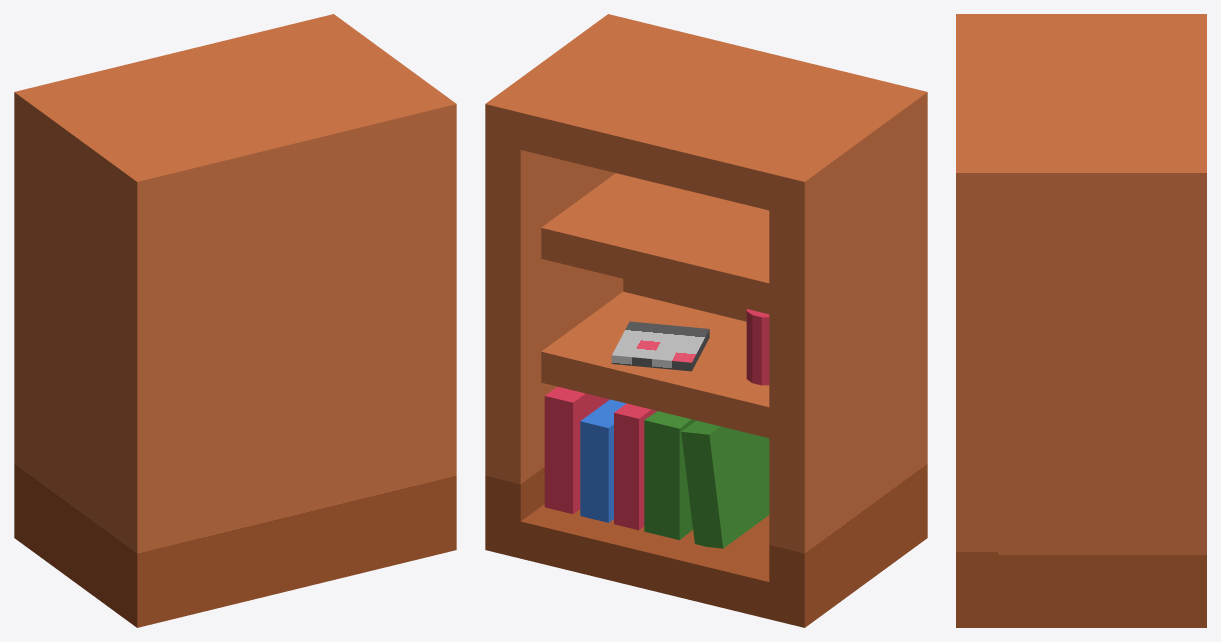
The model's file is shelf.gltf.
3 views of the same model, side by side, from view 1: azimuth 30°, elevation 25°; view 2: azimuth 150°, elevation 25°; view 3: azimuth 270°, elevation 25° (orthographic). The views are drawn at different scales.
Visible parts, largest first — view 1: cuboid; view 2: cuboid (×7), cylinder; view 3: cuboid.
Part boxes in pixels (bbox=[...]): cuboid: bbox=[14, 14, 456, 627]; cuboid (×7): bbox=[485, 14, 927, 627]; cylinder: bbox=[746, 309, 769, 385]; cuboid: bbox=[956, 14, 1206, 627].
Size of the model in its own units: 0.5625 by 0.75 by 0.375.
Materials: 5 (5 with a texture image).
